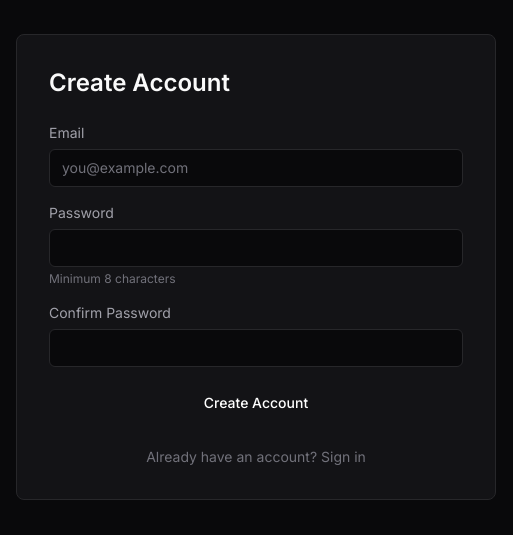
SignupPage › shows validation error for short password
Type "test@example.com" into the field labelled "Email" at (256, 168), box [49,149,463,187]
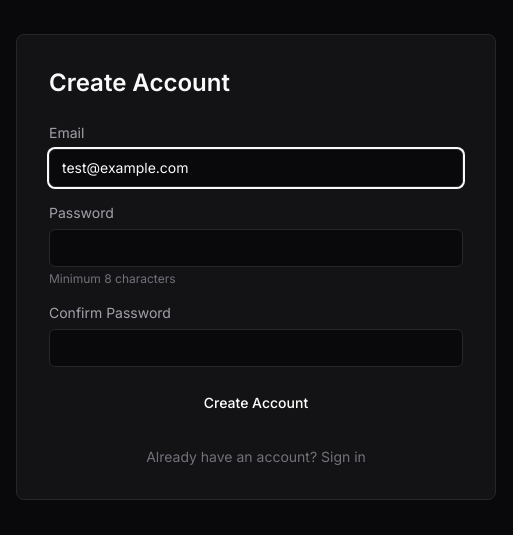
Type "short" into the password field labelled "Password" at (256, 248), box [49,229,463,267]
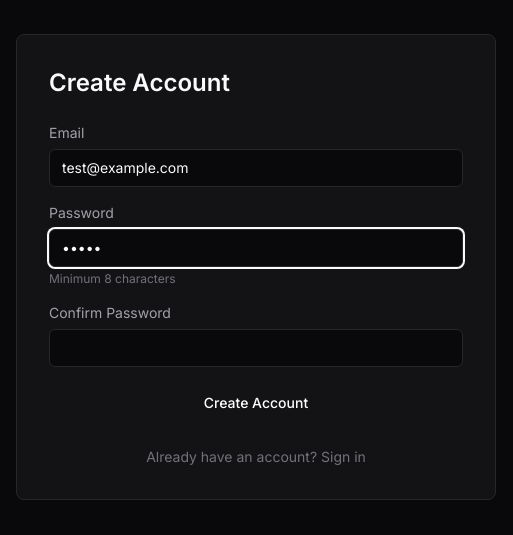
Type "short" into the password field labelled "Confirm Password" at (256, 348), box [49,329,463,367]
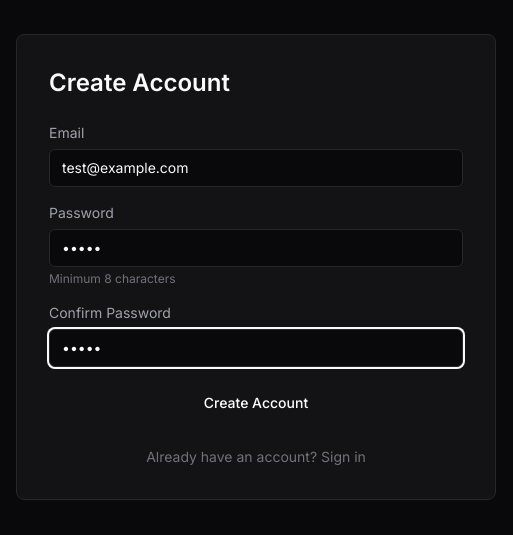
Click the button "Create Account" at (256, 403), box [49,383,463,423]
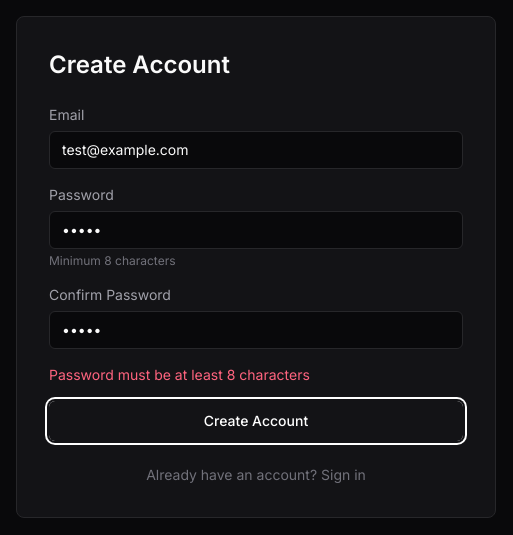
Now the text "Password must be at least 8 characters" is shown, box [49,366,310,383]
